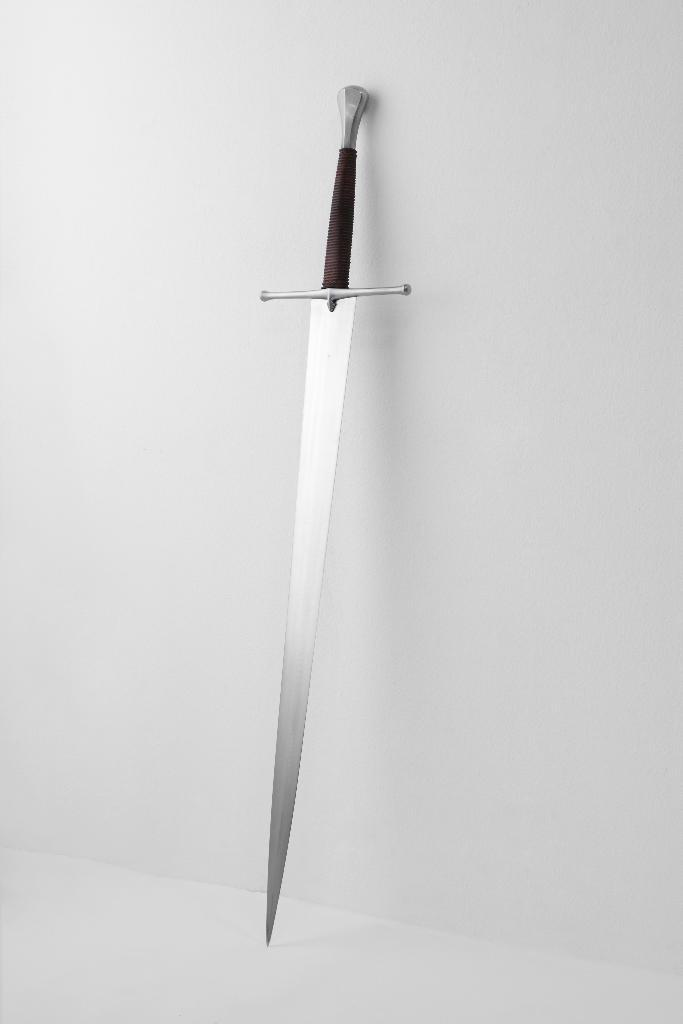Sword: (259, 84, 411, 945)
